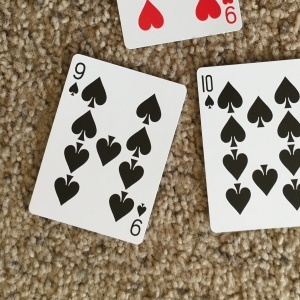card: (27, 54, 186, 246)
